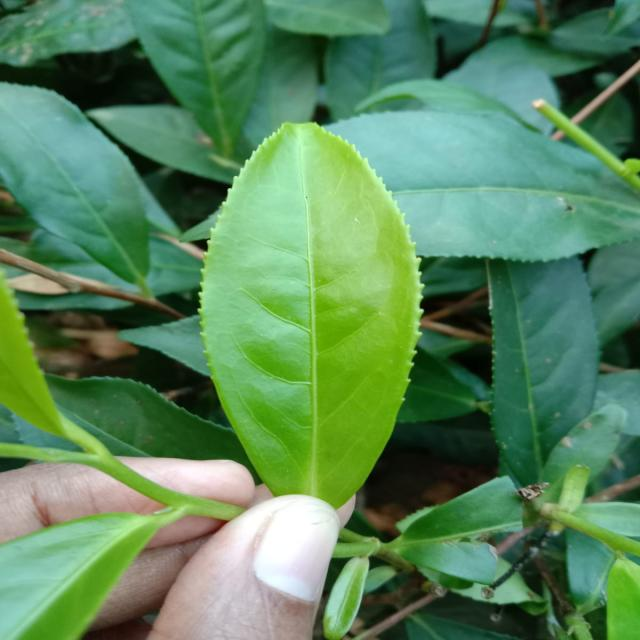Category C(4-7 days): (164, 90, 452, 540)
